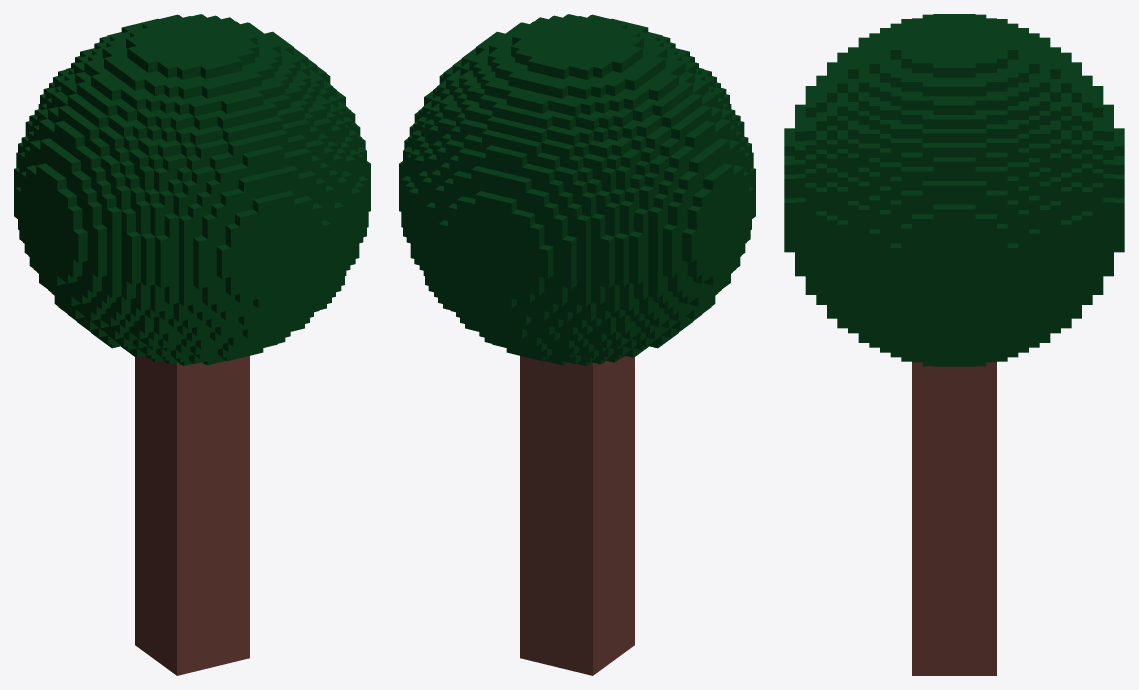
The model's file is Tree.fbx.
3 views of the same model, side by side, from view 1: azimuth 30°, elevation 25°; view 2: azimuth 150°, elevation 25°; view 3: azimuth 270°, elevation 25° (orthographic).
Visible parts, largest first — view 1: Matrix; view 2: Matrix; view 3: Matrix.
Boxes of the visible parts, box(x1,y1,x2,y2) form: Matrix: box(14, 14, 370, 675); Matrix: box(399, 14, 755, 675); Matrix: box(784, 14, 1124, 675).
Size of the model in its own units: 32 by 64 by 32.
Materials: 1 (1 with a texture image).
